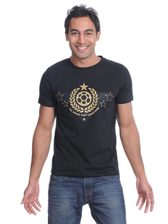clothoes: (37, 54, 135, 176)
